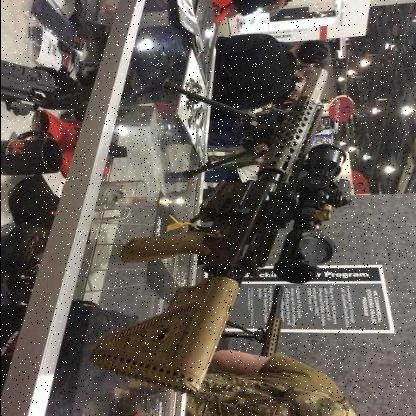rifle: (76, 55, 363, 397)
